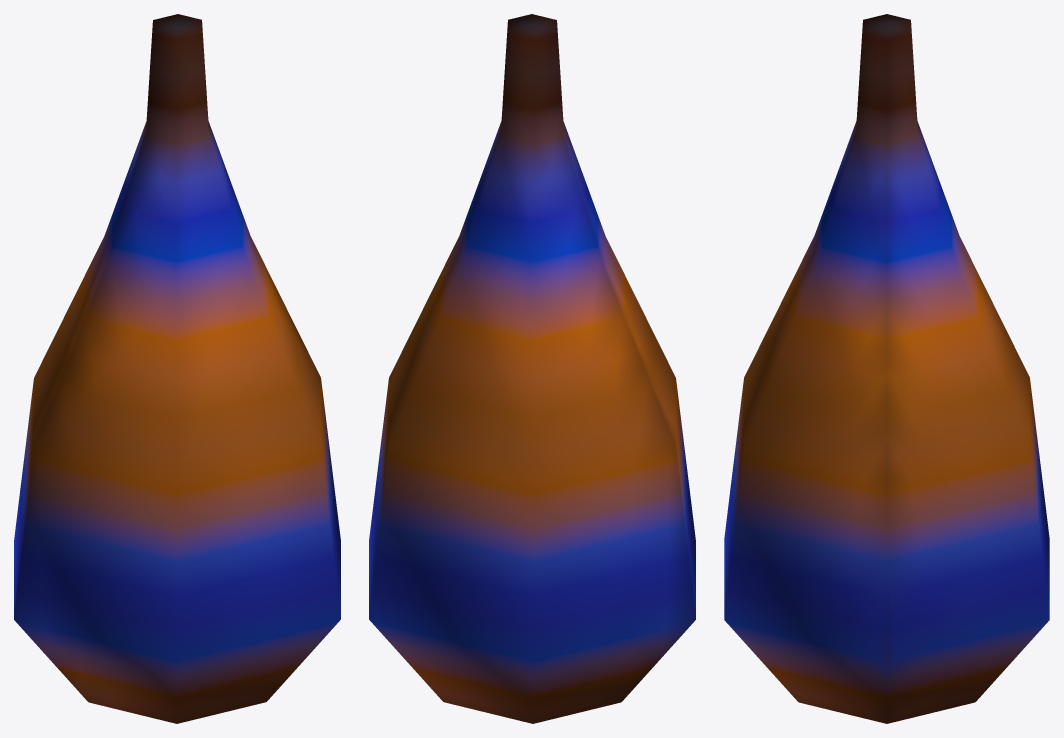
Rendered from Wine_02.gltf.
3 views of the same model, side by side, from view 1: azimuth 30°, elevation 25°; view 2: azimuth 150°, elevation 25°; view 3: azimuth 270°, elevation 25° (orthographic).
Visible parts, largest first — view 1: Wine_02; view 2: Wine_02; view 3: Wine_02.
Boxes of the visible parts, x1,y1,x2,y2 form: Wine_02: (14, 14, 340, 723); Wine_02: (369, 14, 695, 723); Wine_02: (724, 14, 1049, 723).
Size of the model in its own units: 7.63 by 14.61 by 6.59.
1 material, 1 textured.
